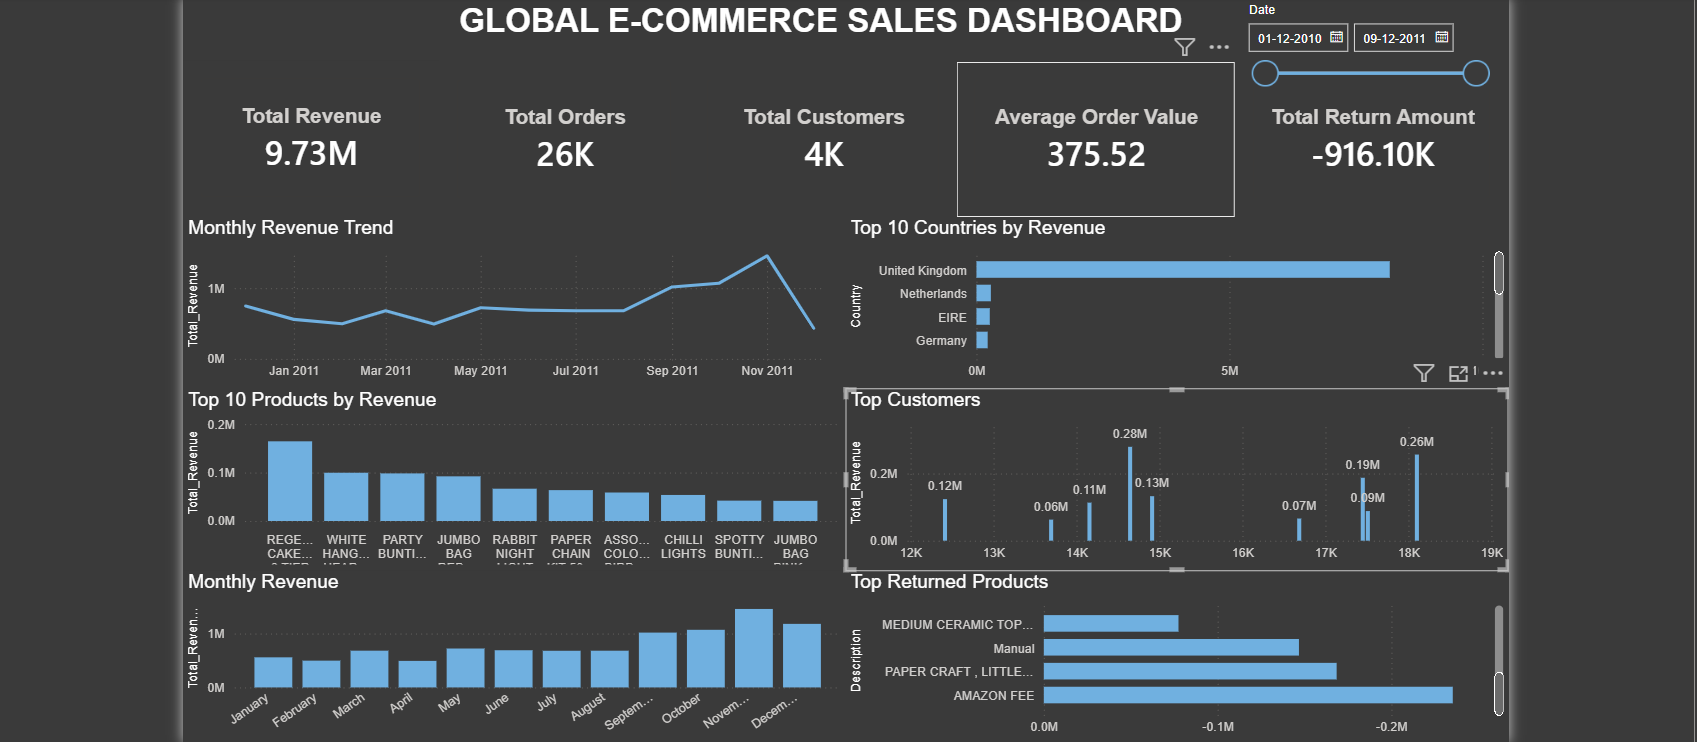

What the dashboard file says about the page in this screenshot:
{"tool":"powerbi","page":{"name":"Page 1","canvas":[1280,720],"ordinal":0},"visuals":[{"type":"textbox","box":[0,0,969.7,63.6],"z":0},{"type":"cardVisual","fields":{"Data":["Sheet1.Total_Revenue"]},"box":[0,61.3,246.8,149.8],"z":1},{"type":"cardVisual","fields":{"Data":["Sheet1.Total_Return_Amount"]},"box":[1016.2,63,263.8,149.8],"z":2},{"type":"cardVisual","fields":{"Data":["Sheet1.Average_Order_Value"]},"box":[747.2,63,268.9,149.8],"z":3},{"type":"cardVisual","fields":{"Data":["Sheet1.Total_Customers"]},"box":[488.5,63,258.7,149.8],"z":4},{"type":"cardVisual","fields":{"Data":["Sheet1.Total_Orders"]},"box":[246.8,63,241.7,149.8],"z":5},{"type":"lineChart","title":"Monthly Revenue Trend","fields":{"Category":["Sheet1.InvoiceDate.Variation.Date Hierarchy.Year","Sheet1.InvoiceDate.Variation.Date Hierarchy.Month"],"Y":["Sheet1.Total_Revenue"]},"box":[0,212.8,640,165.1],"z":6},{"type":"clusteredColumnChart","title":"Top 10 Products by Revenue","fields":{"Category":["Sheet1.Description"],"Y":["Sheet1.Total_Revenue"]},"box":[0,377.9,640,175.3],"z":7},{"type":"clusteredColumnChart","title":"Monthly Revenue","fields":{"Y":["Sheet1.Total_Revenue"],"Category":["Sheet1.InvoiceDate.Variation.Date Hierarchy.Month"]},"box":[0,553.2,640,166.8],"z":8},{"type":"clusteredBarChart","title":"Top 10 Countries by Revenue ","fields":{"Category":["Sheet1.Country"],"Y":["Sheet1.Total_Revenue"]},"box":[640,212.8,640,165.1],"z":9},{"type":"clusteredColumnChart","title":"Top Customers","fields":{"Category":["Sheet1.CustomerID"],"Y":["Sheet1.Total_Revenue"]},"box":[640,377.9,640,175.3],"z":10},{"type":"clusteredBarChart","title":"Top Returned Products","fields":{"Y":["Sheet1.Total_Return_Amount"],"Category":["Sheet1.Description"]},"box":[640,553.2,640,166.8],"z":11},{"type":"slicer","title":"Date","fields":{"Values":["Sheet1.InvoiceDate"]},"box":[1016.2,0,253.1,88],"z":12}]}

Visuals, with their boxes on the page's 1280x720 design canvas (x1, y1, x2, y2). These are canvas units, not pixel positions in the 1697x742 screenshot, which may show the page scaled, cropped or inside an application window:
textbox: region(0, 0, 970, 64)
cardVisual - Sheet1.Total_Revenue: region(0, 61, 247, 211)
cardVisual - Sheet1.Total_Return_Amount: region(1016, 63, 1280, 213)
cardVisual - Sheet1.Average_Order_Value: region(747, 63, 1016, 213)
cardVisual - Sheet1.Total_Customers: region(488, 63, 747, 213)
cardVisual - Sheet1.Total_Orders: region(247, 63, 488, 213)
"Monthly Revenue Trend" lineChart: region(0, 213, 640, 378)
"Top 10 Products by Revenue" clusteredColumnChart: region(0, 378, 640, 553)
"Monthly Revenue" clusteredColumnChart: region(0, 553, 640, 720)
"Top 10 Countries by Revenue " clusteredBarChart: region(640, 213, 1280, 378)
"Top Customers" clusteredColumnChart: region(640, 378, 1280, 553)
"Top Returned Products" clusteredBarChart: region(640, 553, 1280, 720)
"Date" slicer: region(1016, 0, 1269, 88)
